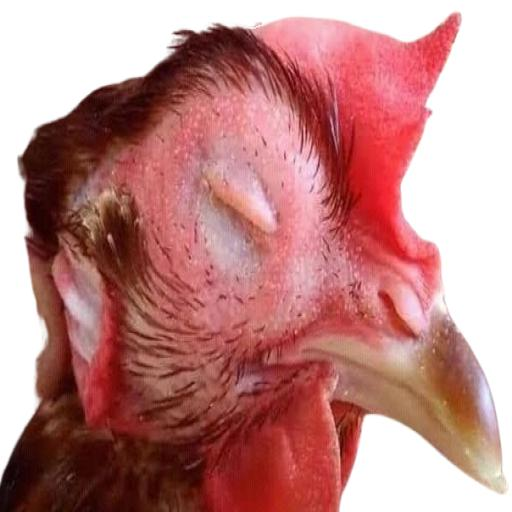disease: (171, 97, 304, 318)
